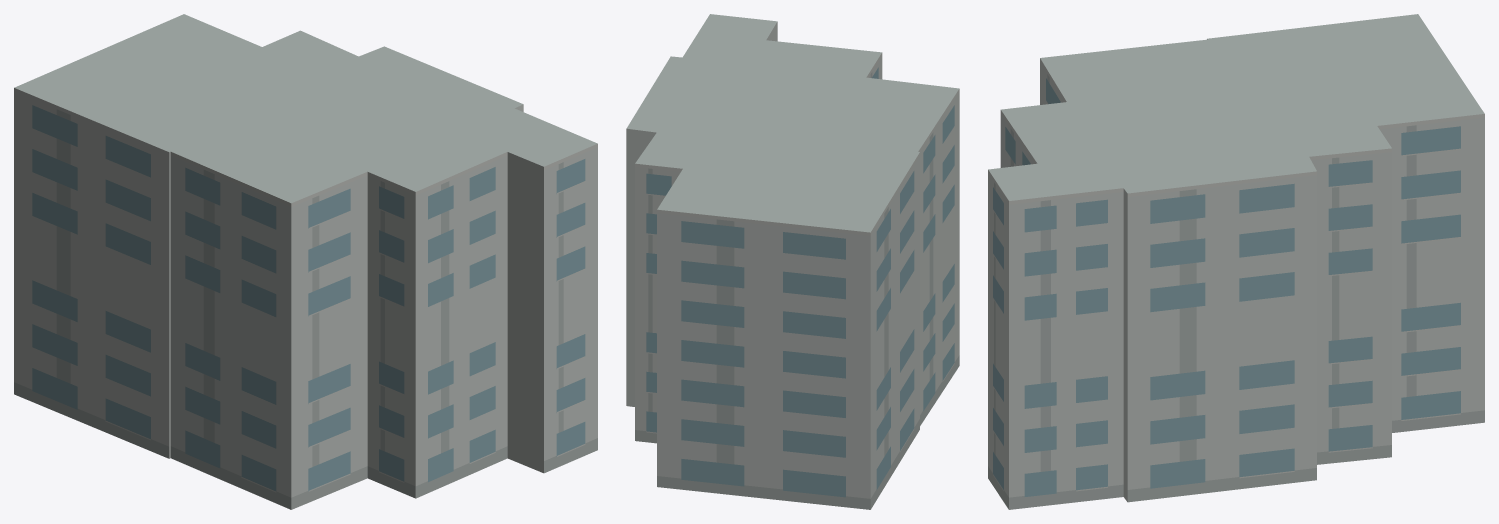
File: survey-upis-32725121.glb
The picture shows the model from 3 angles, left to right: view 1: azimuth 30°, elevation 25°; view 2: azimuth 150°, elevation 25°; view 3: azimuth 270°, elevation 25°; orthographic projection. The views are drawn at different scales.
Parts seen in each view (by area): view 1: survey-upis-32725121.tmp; view 2: survey-upis-32725121.tmp; view 3: survey-upis-32725121.tmp.
Boxes of the visible parts, x1,y1,x2,y2 form: survey-upis-32725121.tmp: (14,14,597,509); survey-upis-32725121.tmp: (626,14,959,509); survey-upis-32725121.tmp: (988,14,1484,509).
Size of the model in its own units: 26.12 by 20.1 by 29.31.
